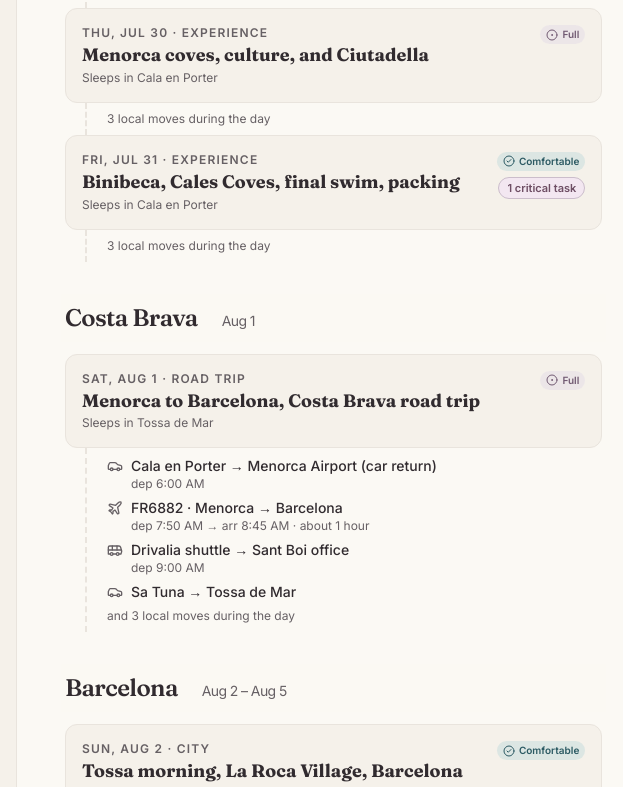
Scenario: Itinerary — medium (768–1023px) › expands the selected day inline under its row and shows the diagram strip above the timeline
(page scrolled)
Step 1. Click the link with aria-label "Sat Aug 1" → (334, 401), box [65, 354, 602, 448]
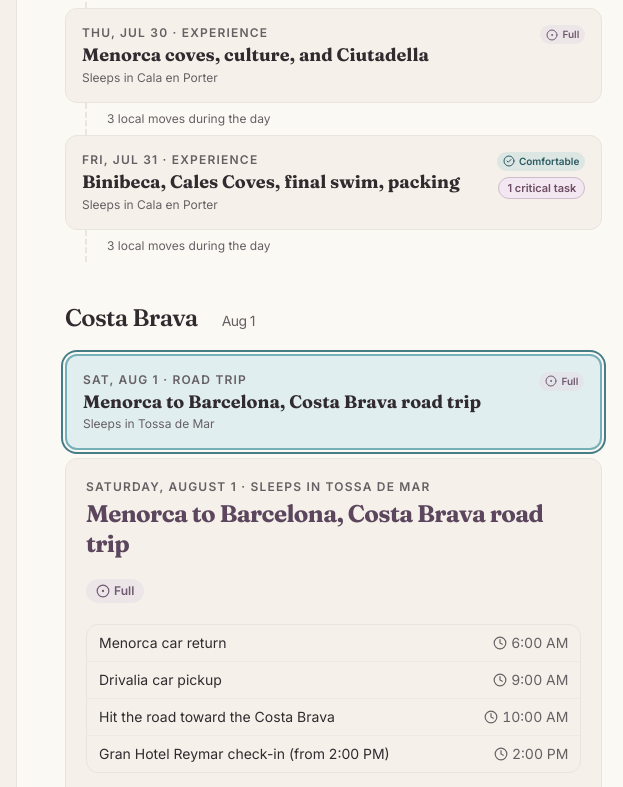
Check: the heading "Menorca to Barcelona, Costa Brava road trip" is shown, box [86, 499, 581, 559]
